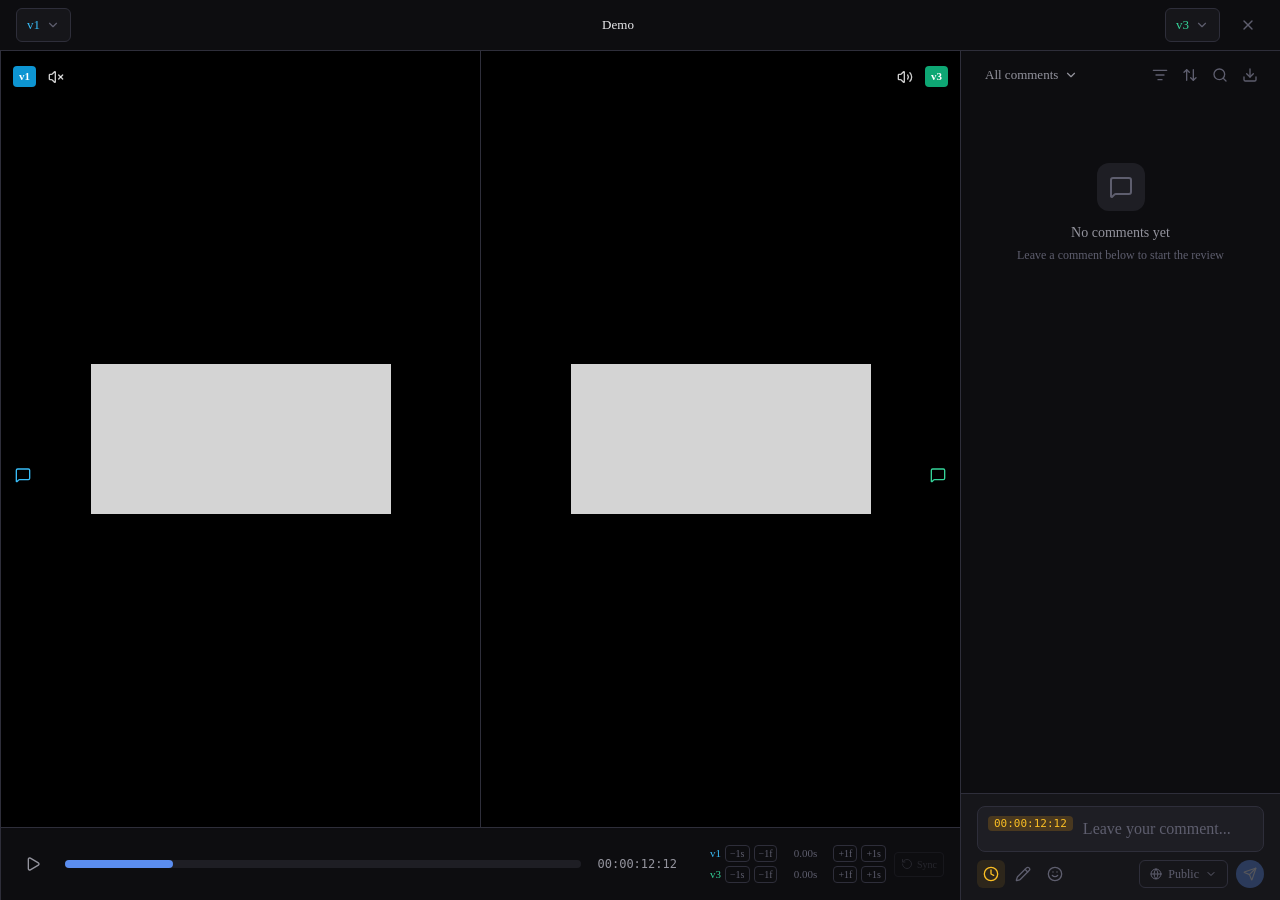
Test: CompareOverlay per-side audio toggle › defaults to B audible / A muted, and exclusive-unmutes on click (A→B mutes, B unmute, mute-audible→both muted)
Expected: the button named "Mute v3" is shown, [891, 62, 919, 90]
# Click the muted side (A) — unmutes A AND mutes B (exclusive unmute).
Click the button named "Unmute v1".
click(56, 76)  # box [42, 62, 70, 90]
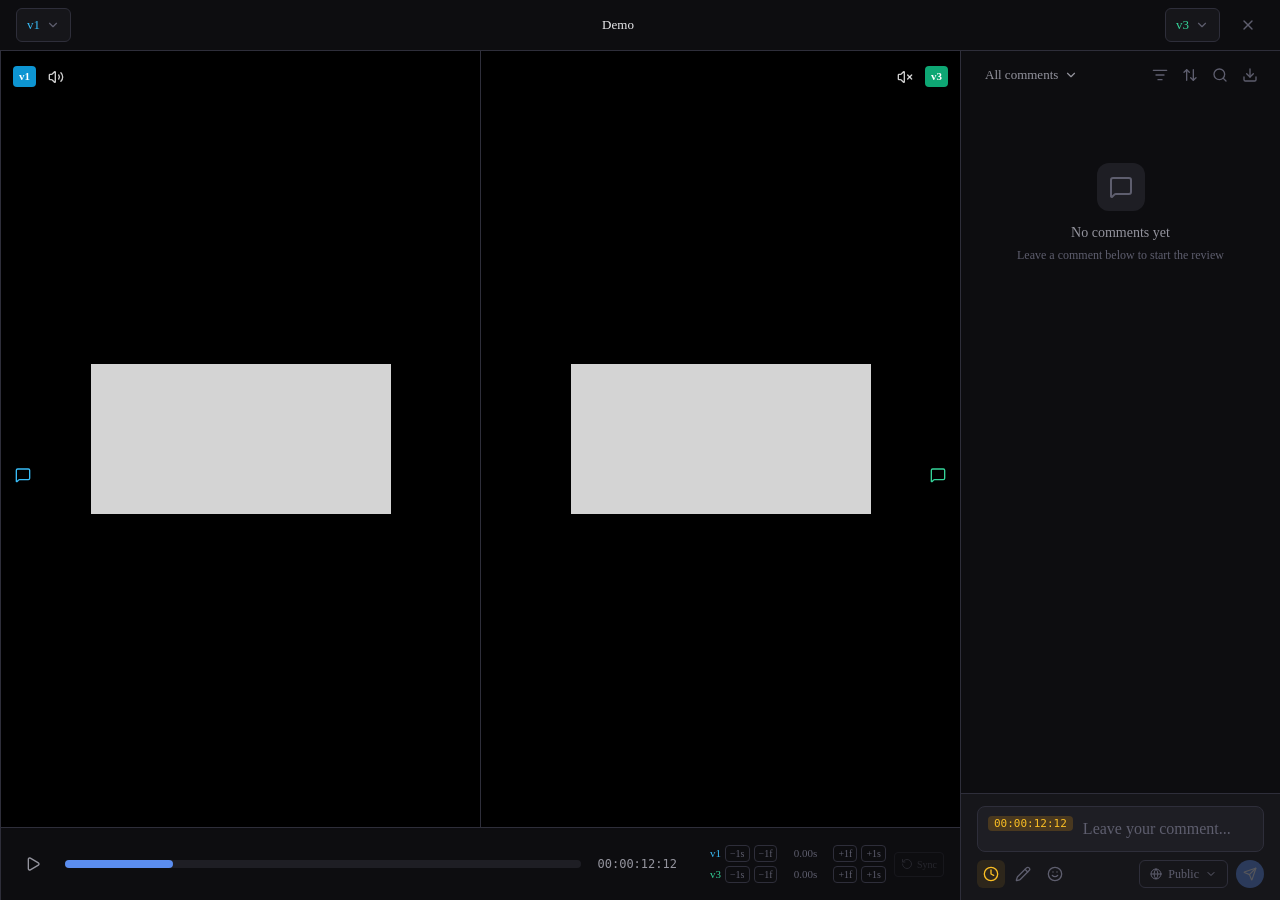
Result: the button named "Unmute v3" is shown at [891, 62, 919, 90]
Click the button named "Mute v1".
click(56, 76)  # box [42, 62, 70, 90]
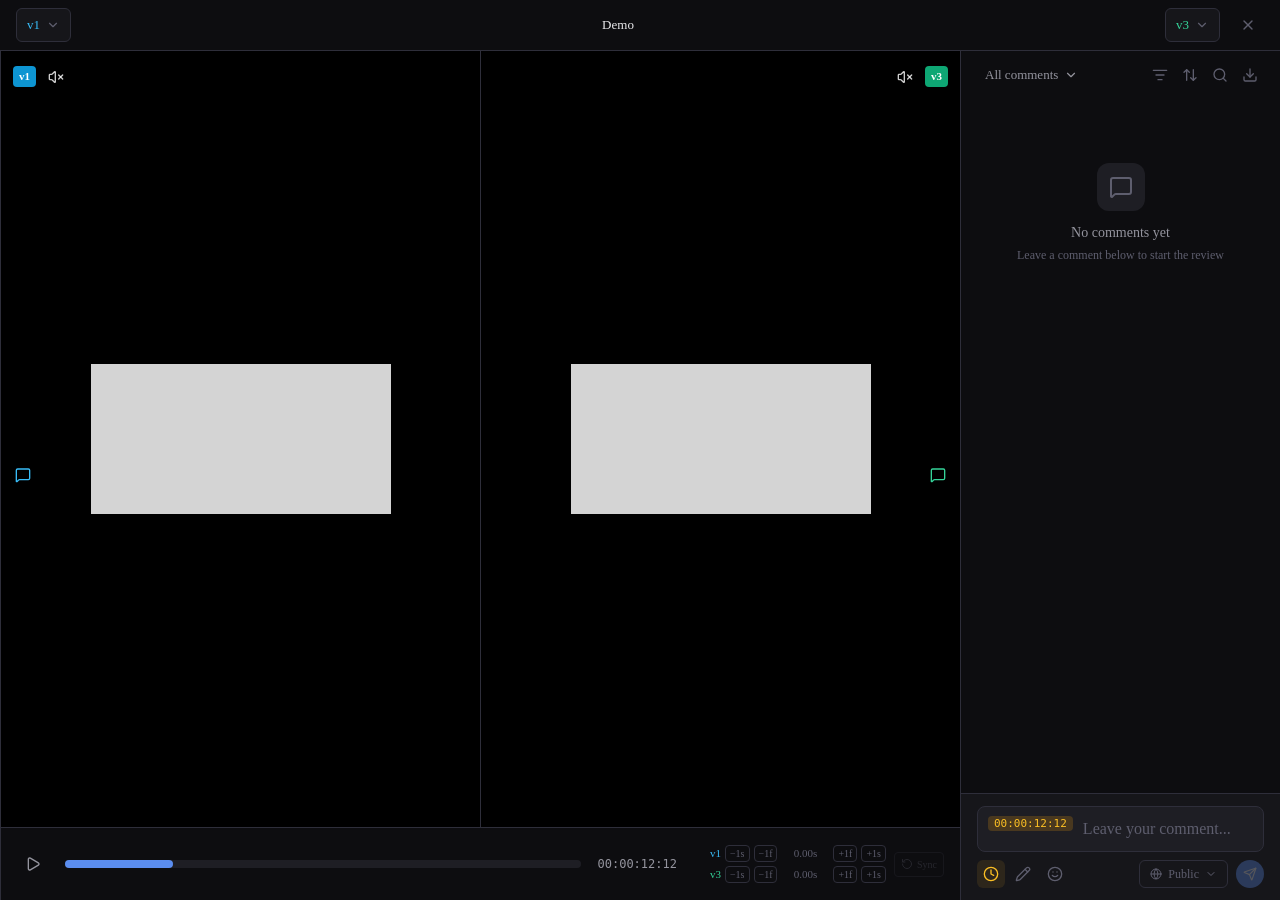
Result: the button named "Unmute v3" is shown at [891, 62, 919, 90]
Result: the button named "Unmute v1" is shown at [42, 62, 70, 90]
